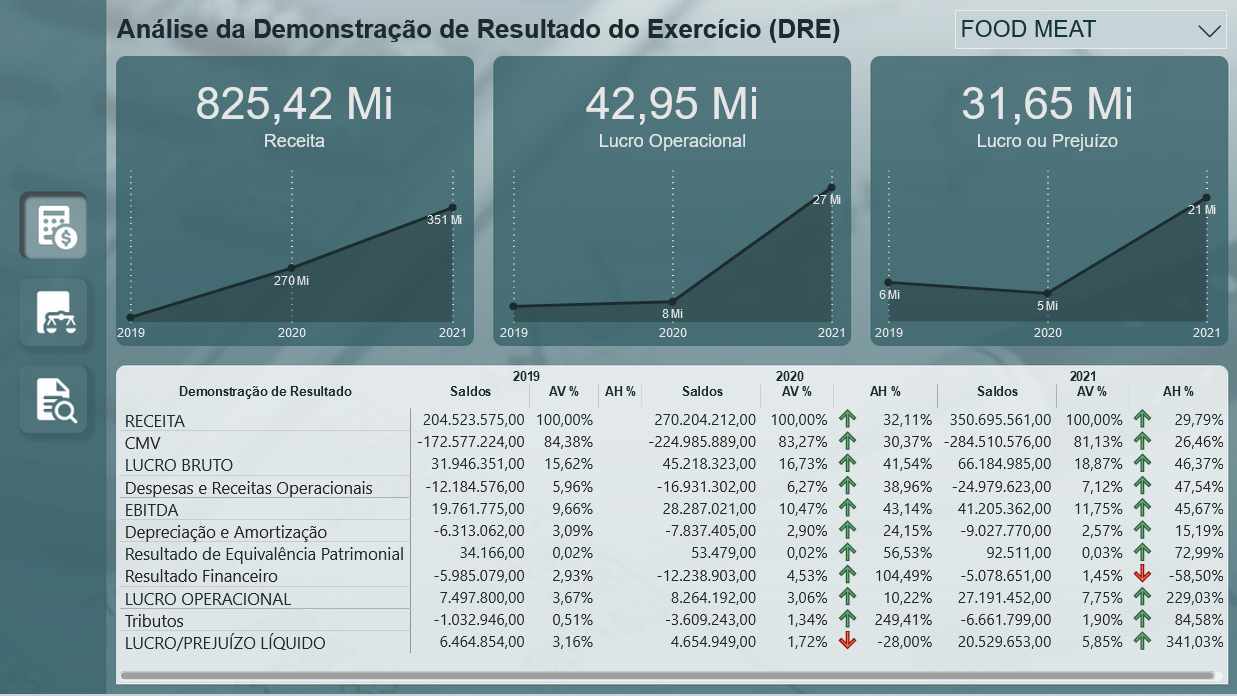

Layout of this report page (visuals, bound fields, positions):
{"tool":"powerbi","page":{"name":"DRE","canvas":[1280,720],"ordinal":0},"visuals":[{"type":"pivotTable","fields":{"Rows":["dPlanodecontas.Subgrupo"],"Columns":["dCalendario.Ano"],"Values":["DRE.Total DRE","DRE.AV DRE","DRE.AH DRE"]},"box":[119.1,376.8,1151.2,332.5],"z":0},{"type":"card","fields":{"Values":["Medidas.Receita Total"]},"box":[120.5,66.5,367.1,95.6],"z":1000},{"type":"card","fields":{"Values":["Medidas.Lucro Operacional Total"]},"box":[512.6,66.5,367.1,95.6],"z":2000},{"type":"card","fields":{"Values":["Medidas.Lucro/Prejuízo Total"]},"box":[900.4,66.5,367.1,95.6],"z":3000},{"type":"stackedAreaChart","fields":{"Category":["dCalendario.Ano"],"Y":["Medidas.Receita Total"]},"box":[116.4,162.1,371.3,198.1],"z":4000},{"type":"stackedAreaChart","fields":{"Category":["dCalendario.Ano"],"Y":["Medidas.Lucro Operacional Total"]},"box":[512.6,162.1,367.1,198.1],"z":5000},{"type":"stackedAreaChart","fields":{"Category":["dCalendario.Ano"],"Y":["Medidas.Lucro/Prejuízo Total"]},"box":[900.4,162.1,367.1,198.1],"z":6000},{"type":"textbox","box":[116.4,9.7,839.5,47.1],"z":7000},{"type":"actionButton","box":[12.5,282.6,87.3,77.6],"z":8000},{"type":"actionButton","box":[12.5,371.3,87.3,79],"z":9000},{"type":"slicer","fields":{"Values":["dEmpresas.Nome_empresa"]},"box":[978,0,302,51.3],"z":10000},{"type":"actionButton","box":[33.2,608.1,47.1,36],"z":11000},{"type":"actionButton","box":[33.2,653.9,47.1,40.2],"z":12000},{"type":"actionButton","box":[33.2,11.1,47.1,52.6],"z":13000}]}

Visuals, with their boxes in screenshot pixels (x1, y1, x2, y2), scaled from the page's 1280x720 canvas onto the 1237x696 screenshot:
pivotTable - dPlanodecontas.Subgrupo x dCalendario.Ano: l=115, t=364, r=1228, b=686
card - Medidas.Receita Total: l=116, t=64, r=471, b=157
card - Medidas.Lucro Operacional Total: l=495, t=64, r=850, b=157
card - Medidas.Lucro/Prejuízo Total: l=870, t=64, r=1225, b=157
stackedAreaChart - dCalendario.Ano x Medidas.Receita Total: l=112, t=157, r=471, b=348
stackedAreaChart - dCalendario.Ano x Medidas.Lucro Operacional Total: l=495, t=157, r=850, b=348
stackedAreaChart - dCalendario.Ano x Medidas.Lucro/Prejuízo Total: l=870, t=157, r=1225, b=348
textbox: l=112, t=9, r=924, b=55
actionButton: l=12, t=273, r=96, b=348
actionButton: l=12, t=359, r=96, b=435
slicer - dEmpresas.Nome_empresa: l=945, t=0, r=1236, b=50
actionButton: l=32, t=588, r=78, b=623
actionButton: l=32, t=632, r=78, b=671
actionButton: l=32, t=11, r=78, b=62
